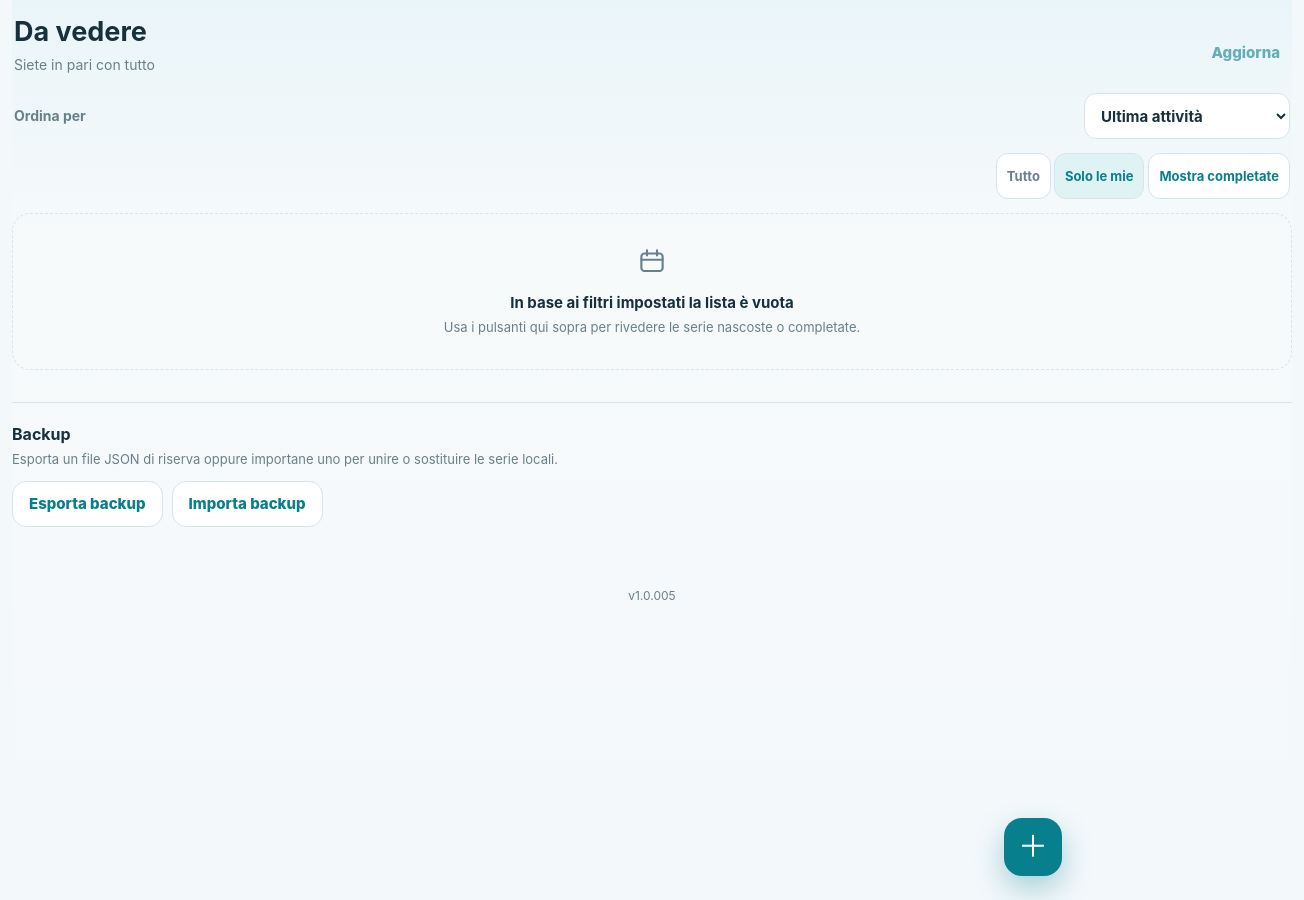
Test: HomeView — lente di visibilità (criteri 3, 6, 7, 21) › mostra lo stesso stato vuoto sia quando la causa è la lente sia quando è il filtro delle completate
The image size is (1304, 900).
Click the button with class "completed-toggle": (1219, 176) [1148, 153, 1290, 199]
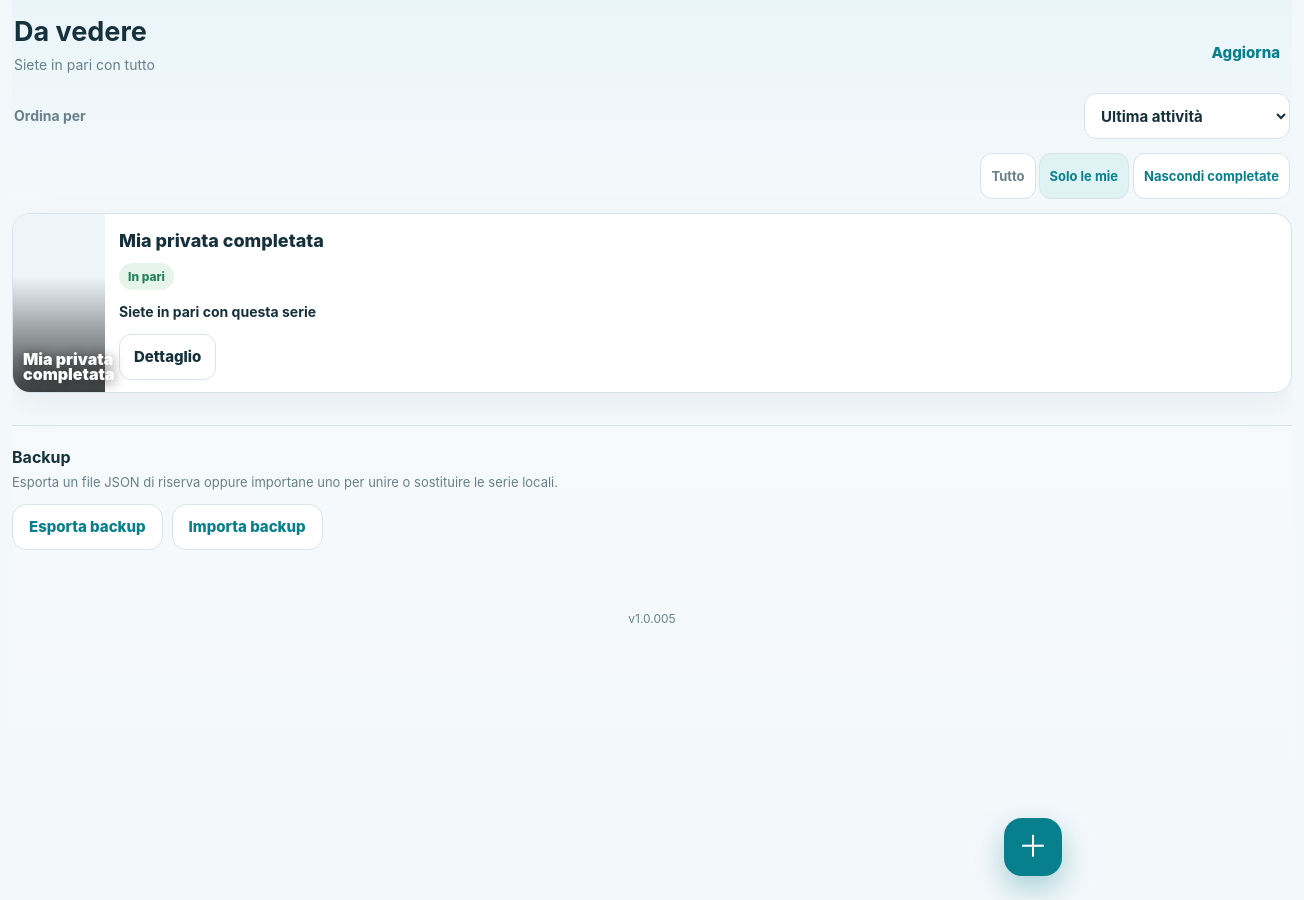
Now the number of elements with class "show" is 1, box [12, 213, 1292, 393]
